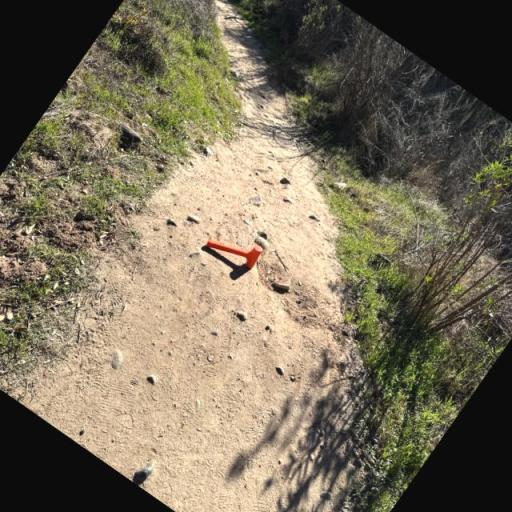mallet: (205, 220, 265, 275)
